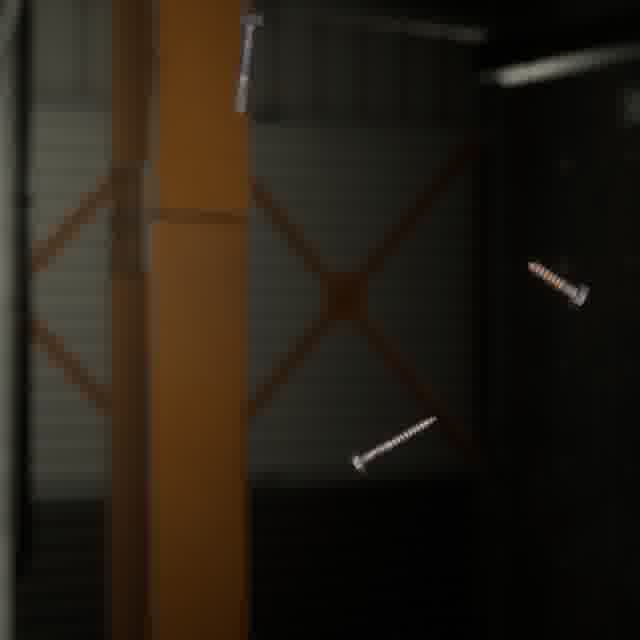bolt: (345, 411, 440, 478), (229, 8, 268, 118), (523, 256, 593, 314)
